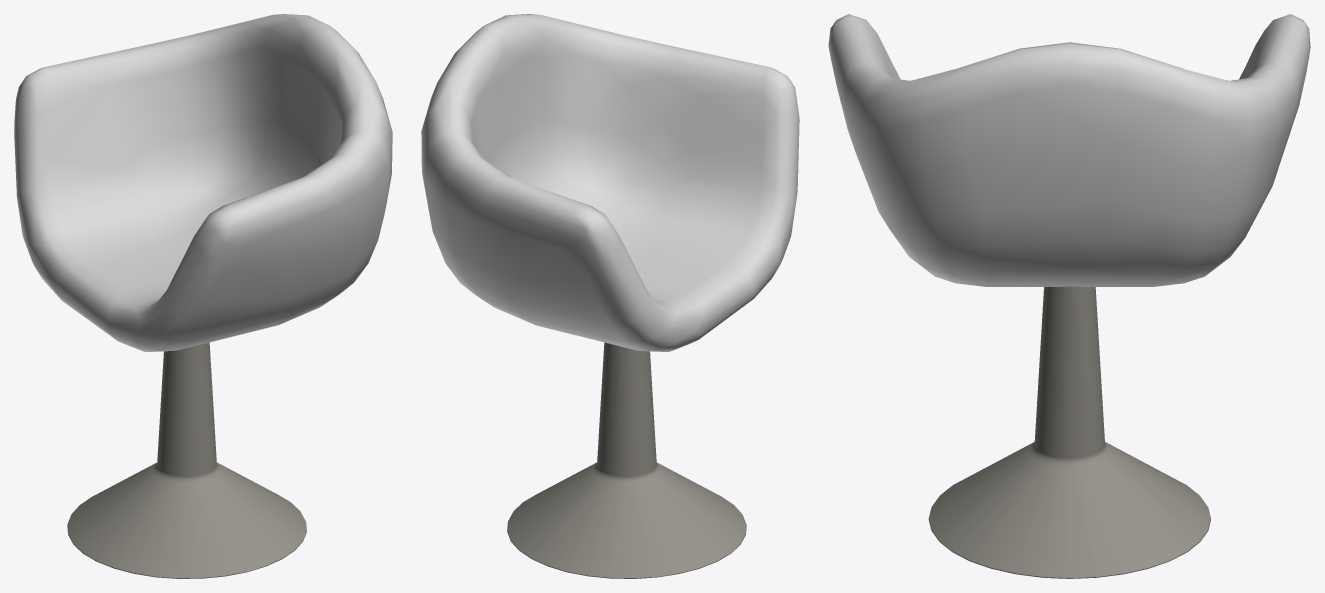
Rendered from chair_09_white.fbx.
3 views of the same model, side by side, from view 1: azimuth 30°, elevation 25°; view 2: azimuth 150°, elevation 25°; view 3: azimuth 270°, elevation 25° (orthographic). The views are drawn at different scales.
Parts seen in each view (by area): view 1: chair_09_white; view 2: chair_09_white; view 3: chair_09_white.
Part boxes in pixels (x1,y1,x2,y2): chair_09_white: (14,14,392,578); chair_09_white: (421,14,799,578); chair_09_white: (828,14,1310,578).
Size of the model in its own units: 53.94 by 92.73 by 73.24.
2 materials, 2 textured.
